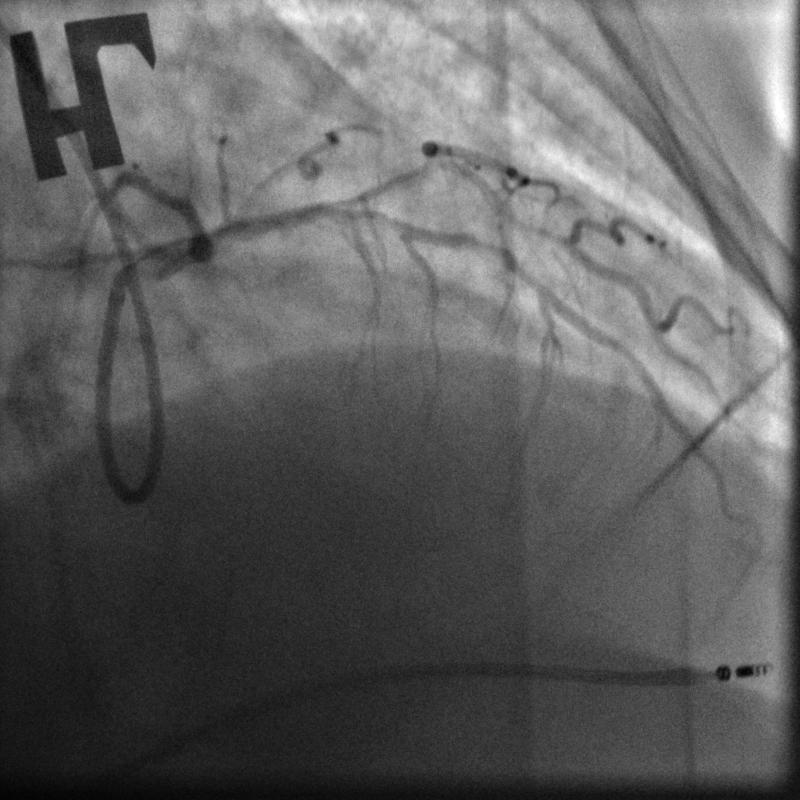Stenosis: (458, 226, 522, 277)
